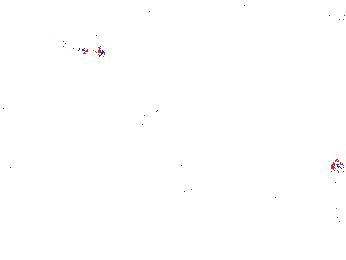X-ray fish: (92, 95, 167, 135), (300, 2, 321, 37)
glassfish: (160, 137, 194, 197), (121, 193, 171, 221)
red belly glassfish: (65, 38, 106, 60), (331, 155, 346, 173)
